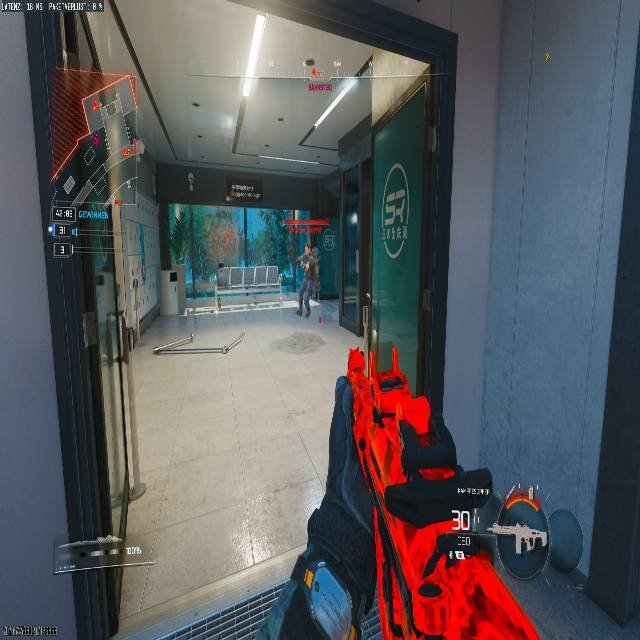head: (303, 241, 311, 253)
player: (295, 243, 319, 318)
